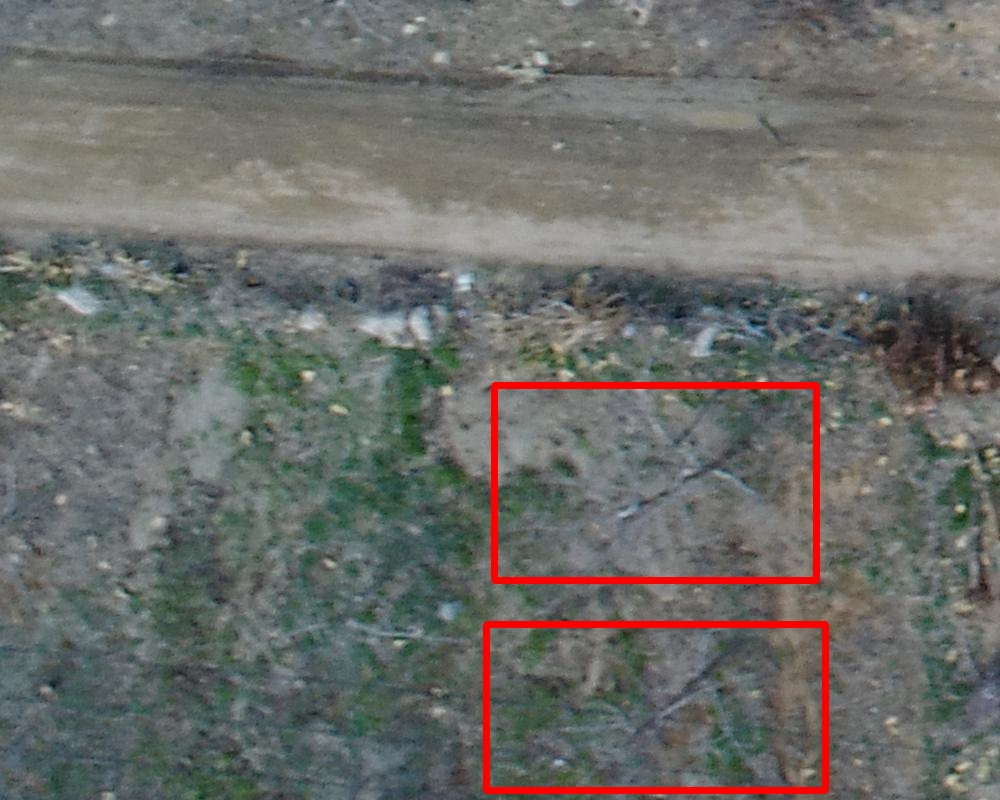apple: (494, 385, 816, 580), (486, 624, 825, 790)
